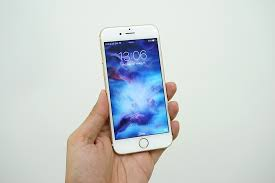iphone: (95, 22, 172, 154)
iphone6: (95, 21, 172, 153)
